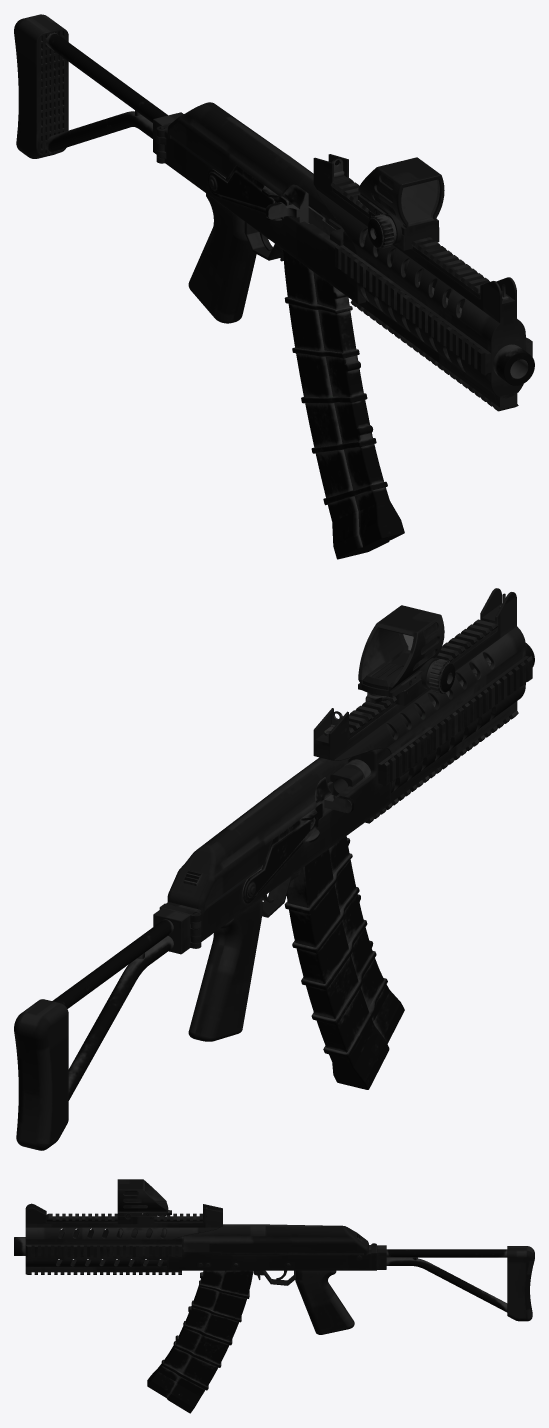
File: saiga-12.glb
3 views of the same model, one above another, from view 1: azimuth 30°, elevation 25°; view 2: azimuth 150°, elevation 25°; view 3: azimuth 270°, elevation 25° (orthographic). The views are drawn at different scales.
Visible parts, largest first — view 1: Body108, Body1 (×4), Body93, Body103, Body86, Body89, Body44, Body64, Body51, Body49, Body105, Body92 (+1 smaller); view 2: Body108, Body1 (×4), Body93, Body103, Body86, Body89, Body64, Body44, Body105, Body49, Body51, Body75 (+1 smaller); view 3: Body108, Body93, Body1 (×2), Body103, Body89, Body64, Body48, Body86, Body51, Body49.
Part boxes in pixels (<box>): Body108: <box>283,206,404,559</box>; Body1 (×4): <box>156,129,444,304</box>; Body93: <box>313,154,525,398</box>; Body103: <box>167,102,340,225</box>; Body86: <box>14,14,68,158</box>; Body89: <box>188,193,256,323</box>; Body44: <box>335,245,491,375</box>; Body64: <box>45,32,167,152</box>; Body51: <box>350,300,518,411</box>; Body49: <box>331,178,489,298</box>; Body105: <box>207,165,288,220</box>; Body92: <box>341,242,534,385</box>; Body108: <box>284,836,404,1089</box>; Body1 (×4): <box>166,605,455,943</box>; Body93: <box>313,588,525,792</box>; Body103: <box>167,757,351,912</box>; Body86: <box>14,999,68,1150</box>; Body89: <box>188,898,262,1041</box>; Body64: <box>52,919,173,1100</box>; Body44: <box>378,655,532,786</box>; Body105: <box>242,802,322,903</box>; Body49: <box>349,619,498,738</box>; Body51: <box>365,701,518,823</box>; Body75: <box>153,908,190,954</box>; Body108: <box>147,1270,253,1413</box>; Body93: <box>25,1203,222,1267</box>; Body1 (×2): <box>117,1179,371,1285</box>; Body103: <box>183,1224,368,1255</box>; Body89: <box>295,1270,354,1334</box>; Body64: <box>386,1249,507,1312</box>; Body48: <box>25,1244,181,1257</box>; Body86: <box>507,1246,534,1321</box>; Body51: <box>25,1267,181,1274</box>; Body49: <box>46,1213,202,1222</box>.
Size of the model in its own units: 0.3587 by 2.12 by 4.45.
1 material, 1 textured.
